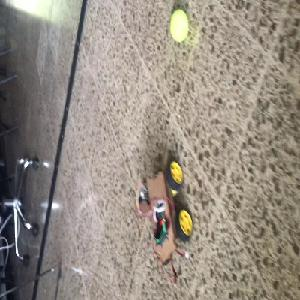Ball: (169, 10, 189, 43)
Robot: (134, 159, 194, 264)
